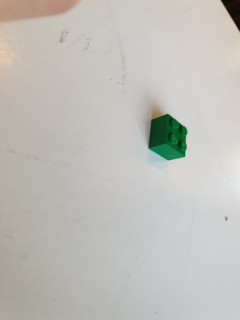2x2 green: (148, 113, 188, 161)
